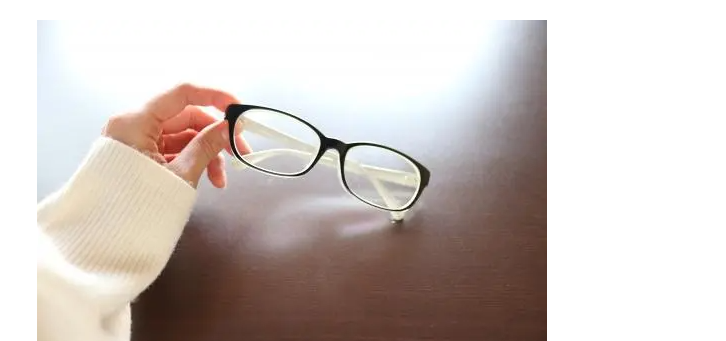glass: (200, 76, 444, 232)
